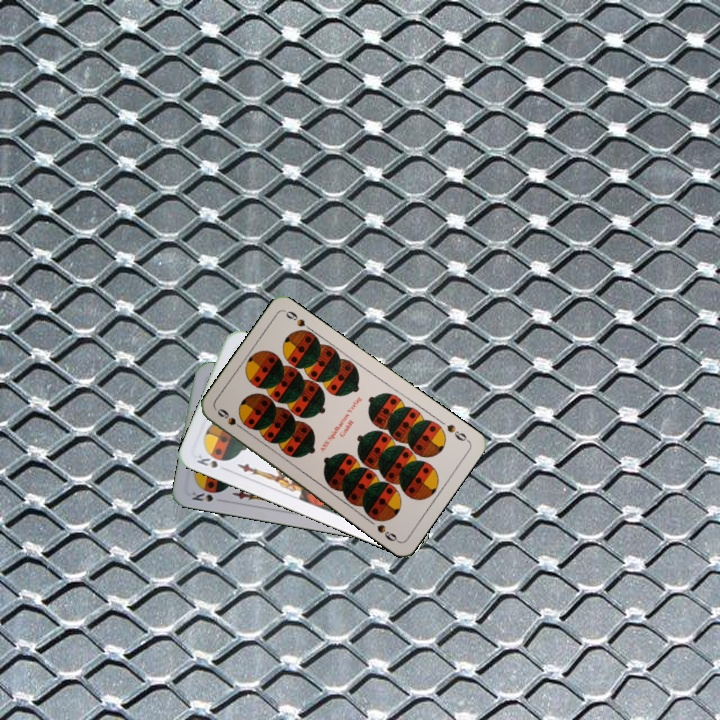S9: (213, 404, 248, 434), (442, 420, 472, 445)
SK: (192, 451, 220, 471), (188, 487, 216, 505)
